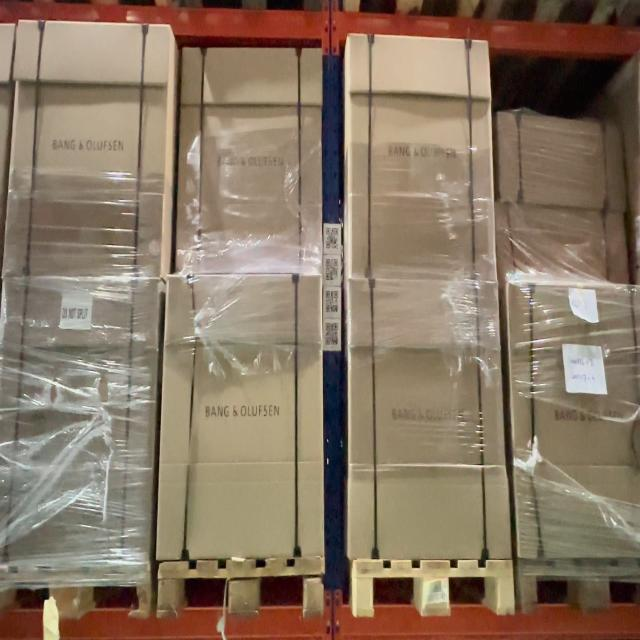box: (156, 275, 325, 563), (348, 276, 511, 562), (2, 20, 172, 278), (345, 34, 497, 282), (175, 47, 323, 277), (498, 112, 626, 212), (495, 202, 630, 285)
